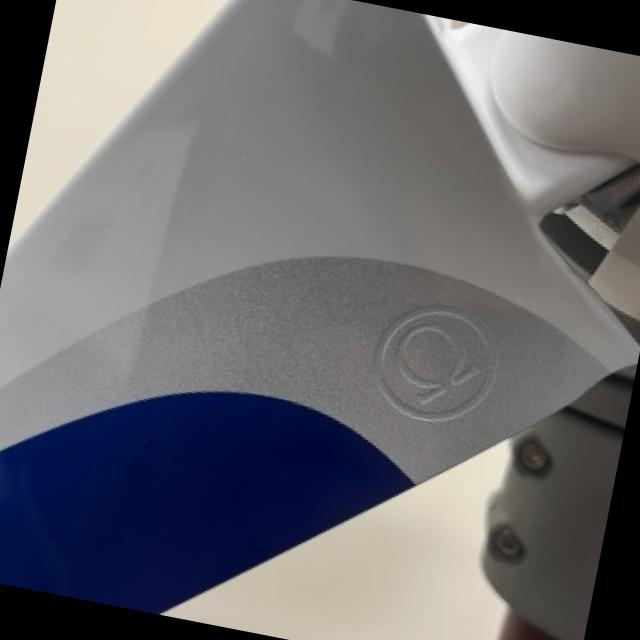healthy: (0, 393, 395, 607)
